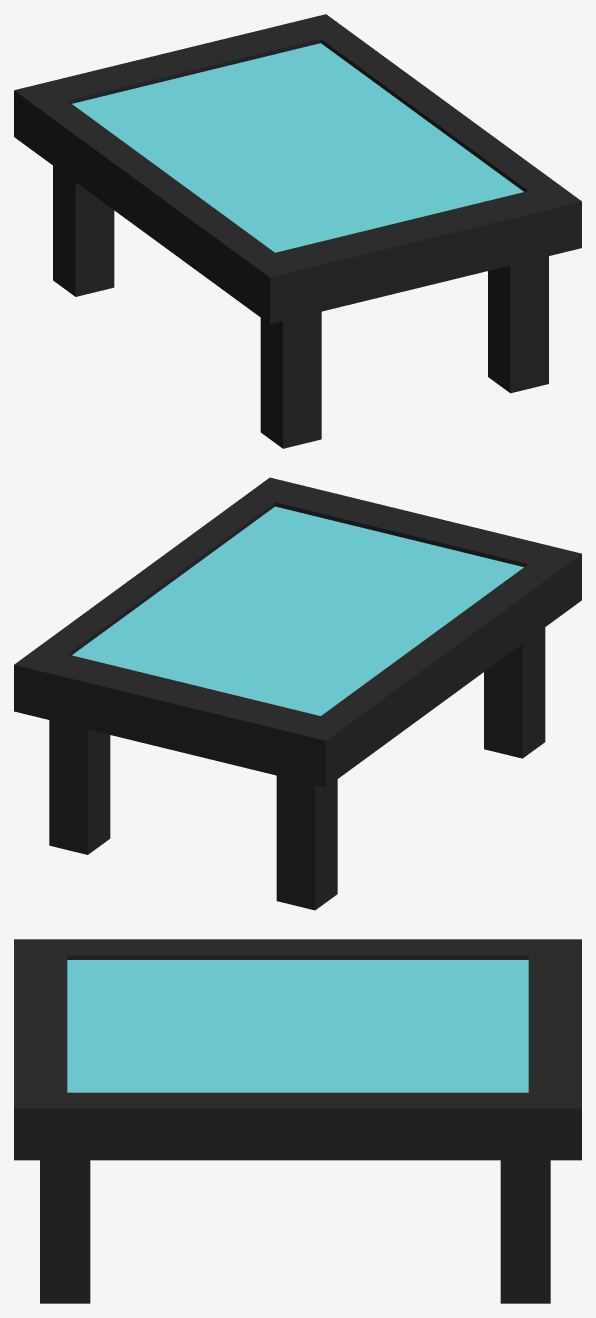
The model's file is table.fbx.
The picture shows the model from 3 angles, top to bottom: view 1: azimuth 30°, elevation 25°; view 2: azimuth 150°, elevation 25°; view 3: azimuth 270°, elevation 25°; orthographic projection. The views are drawn at different scales.
Visible parts, largest first — view 1: Table, Cube.001; view 2: Table, Cube.001; view 3: Table, Cube.001.
Boxes of the visible parts, box(x1,y1,x2,y2) form: Table: box(14, 14, 581, 323); Cube.001: box(53, 166, 548, 448); Table: box(14, 477, 581, 787); Cube.001: box(49, 627, 545, 910); Table: box(14, 939, 581, 1160); Cube.001: box(40, 1160, 550, 1303).
Bounding box in the file's own units: 452 × 257 × 641.
